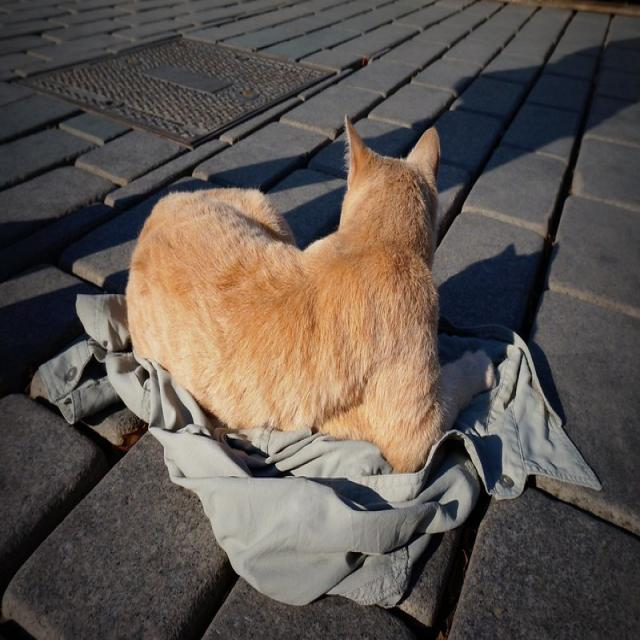cat: (126, 119, 494, 473)
